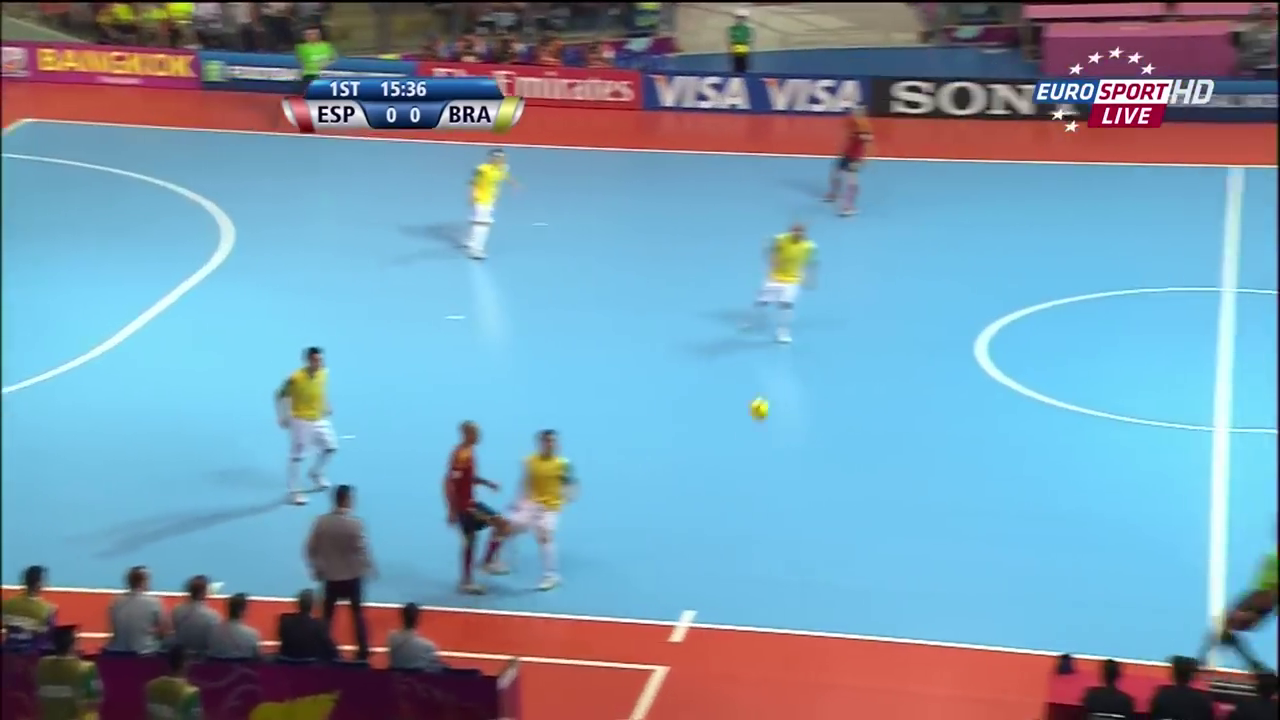ball: (748, 390, 769, 425)
person: (499, 424, 579, 597), (437, 420, 509, 600), (265, 335, 340, 506), (753, 214, 816, 349), (824, 107, 875, 218), (461, 144, 507, 263)
